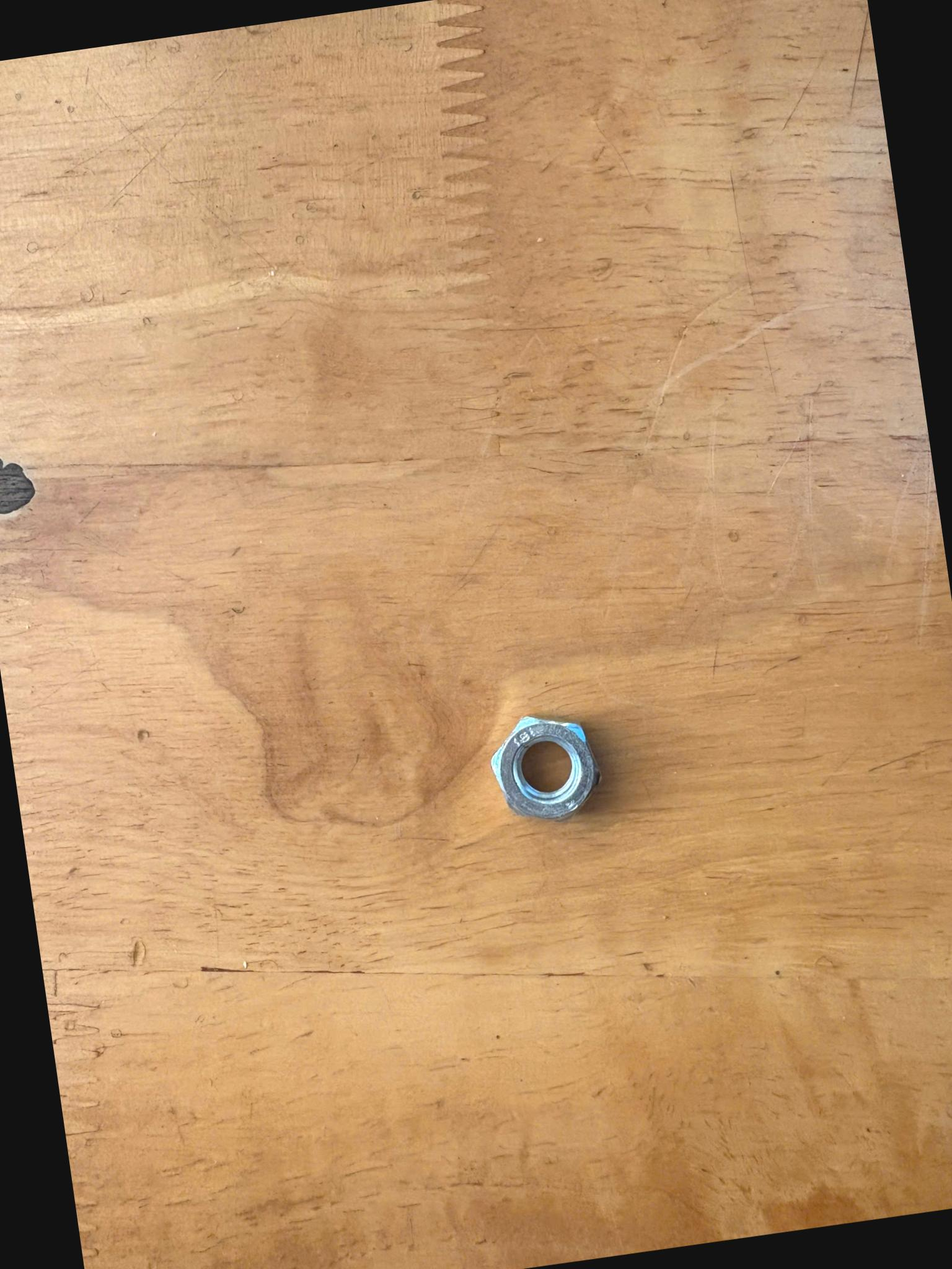nut: (447, 691, 617, 878)
